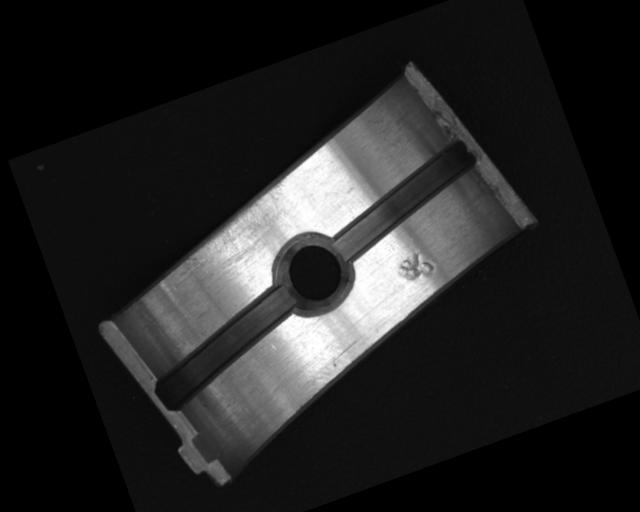bruise: (392, 244, 440, 287)
gap: (134, 279, 320, 415), (317, 138, 494, 263)
hole: (263, 222, 364, 323)
scratch: (156, 171, 314, 282)
